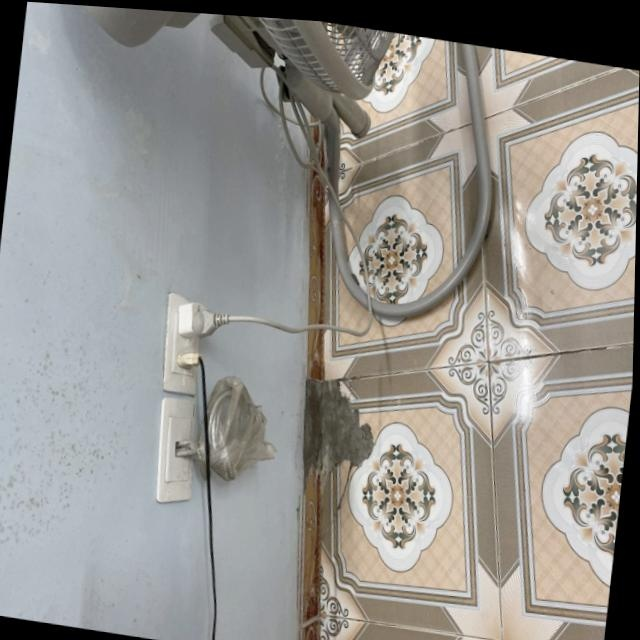outlet: (150, 393, 201, 508), (156, 290, 207, 396)
